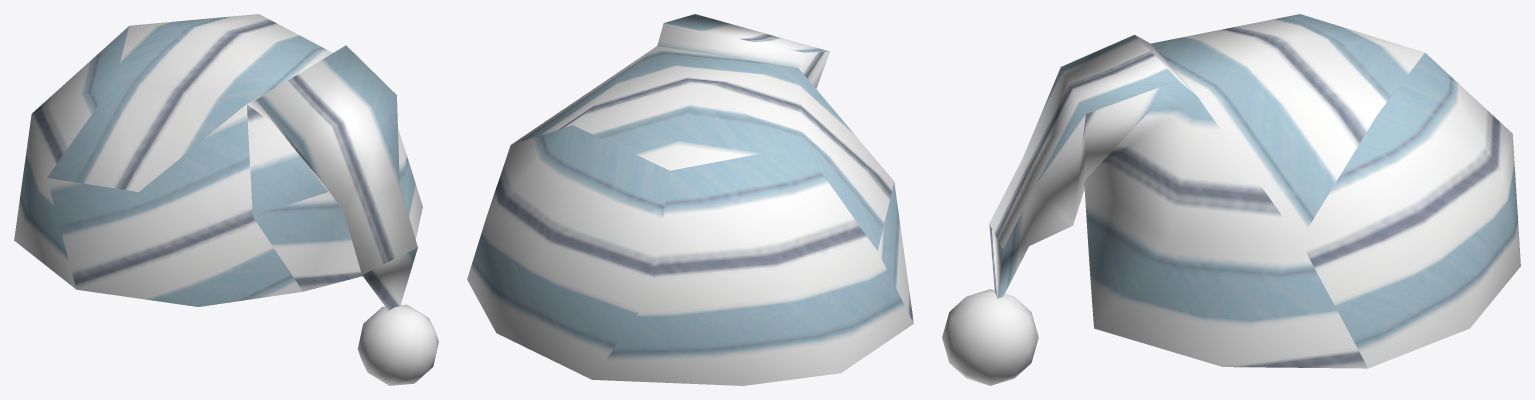
The model's file is item-bryces-sleepytime-hat.glb.
The picture shows the model from 3 angles, left to right: view 1: azimuth 30°, elevation 25°; view 2: azimuth 150°, elevation 25°; view 3: azimuth 270°, elevation 25°; orthographic projection. The views are drawn at different scales.
Size of the model in its own units: 0.1295 by 0.0969 by 0.16.
2 materials, 1 textured.
